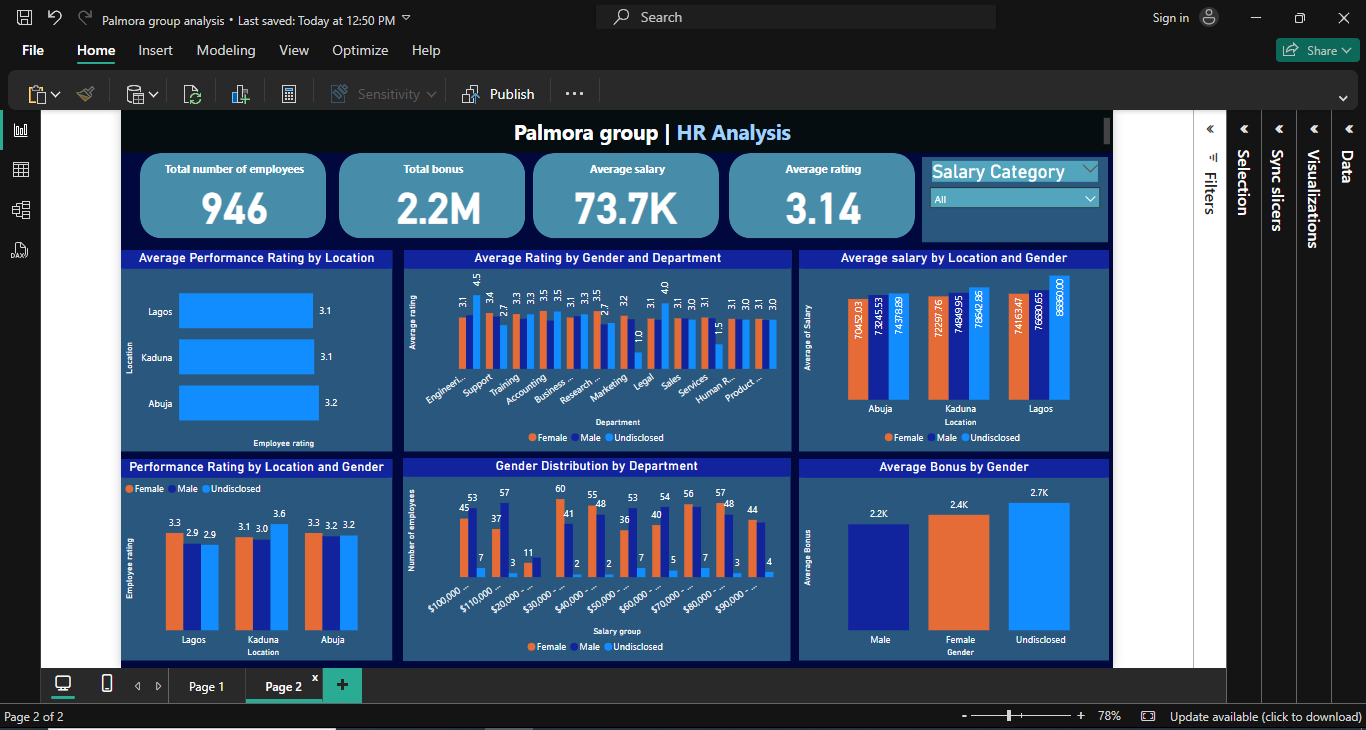

The page's visual inventory and layout, read from the dashboard file:
{"tool":"powerbi","page":{"name":"Page 2","canvas":[1280,720],"ordinal":1},"visuals":[{"type":"shape","box":[0,0,1280,55],"z":0},{"type":"shape","box":[25,55,240,110],"z":0,"group":"g4"},{"type":"shape","box":[280.9,55,240.2,110],"z":0,"group":"g1"},{"type":"shape","box":[532,55,240,110],"z":0,"group":"g2"},{"type":"shape","box":[784,55,240,110],"z":0,"group":"g3"},{"type":"textbox","box":[97.4,5,1182.6,45.4],"z":1000},{"type":"textbox","box":[37,60,220.1,30.2],"z":1000,"group":"g4"},{"type":"textbox","box":[292.6,60,220.1,30.5],"z":1000,"group":"g1"},{"type":"textbox","box":[544,60,220.1,30.2],"z":1000,"group":"g2"},{"type":"textbox","box":[796,60,220.1,30.2],"z":1000,"group":"g3"},{"type":"card","fields":{"Values":["Employees.Total Employees"]},"box":[77,85,140,70],"z":2000,"group":"g4"},{"type":"card","fields":{"Values":["BonusRules.Average Salary"]},"box":[560,85,180,70],"z":2000,"group":"g2"},{"type":"card","fields":{"Values":["Employees.Average Rating"]},"box":[836,85,140,70],"z":2000,"group":"g3"},{"type":"card","fields":{"Values":["Employees.Total Bonus Payout"]},"box":[320,85.2,180,70.5],"z":2000,"group":"g1"},{"type":"group","id":"g1","title":"Group 2","box":[280.9,55,240.2,110],"z":3000},{"type":"group","id":"g2","title":"Group 3","box":[532,55,240,110],"z":4000},{"type":"group","id":"g3","title":"Group 4","box":[784,55,240,110],"z":5000},{"type":"group","id":"g4","title":"Group 5","box":[25,55,240,110],"z":6000},{"type":"clusteredColumnChart","title":"Average Rating by Gender and Department","fields":{"Series":["Employees.Gender"],"Category":["Employees.Department"],"Y":["Employees.Average Rating"]},"box":[365,180,500,260.4],"z":7000},{"type":"clusteredColumnChart","title":"Average salary by Location and Gender","fields":{"Category":["Employees.Location"],"Series":["Employees.Gender"],"Y":["Avg(Employees.Salary)"]},"box":[875,180.7,400,260.2],"z":8000},{"type":"clusteredColumnChart","title":"Performance Rating by Location and Gender","fields":{"Category":["Employees.Location"],"Y":["Employees.Average Rating"],"Series":["Employees.Gender"]},"box":[0,450,350,260],"z":9000},{"type":"clusteredColumnChart","fields":{"Category":["Employees.Gender"],"Y":["BonusRules.Average Bonus"]},"box":[875,450,400,260],"z":10000},{"type":"clusteredColumnChart","title":"Gender Distribution by Department","fields":{"Series":["Employees.Gender"],"Y":["CountNonNull(Employees.Name)"],"Category":["Employees.Salary group"]},"box":[364.3,449.6,500.2,261.7],"z":11000},{"type":"clusteredBarChart","title":"Average Performance Rating by Location","fields":{"Category":["Employees.Location"],"Y":["Employees.Average Rating"]},"box":[0,180.7,349.9,260.2],"z":12000},{"type":"slicer","fields":{"Values":["Employees.Salary Category"]},"box":[1033.7,60.7,240,110],"z":12001}]}

Visuals, with their boxes on the page's 1280x720 design canvas (x1, y1, x2, y2). These are canvas units, not pixel positions in the 1366x730 screenshot, which may show the page scaled, cropped or inside an application window:
shape: crop(0, 0, 1280, 55)
shape: crop(25, 55, 265, 165)
shape: crop(281, 55, 521, 165)
shape: crop(532, 55, 772, 165)
shape: crop(784, 55, 1024, 165)
textbox: crop(97, 5, 1280, 50)
textbox: crop(37, 60, 257, 90)
textbox: crop(293, 60, 513, 90)
textbox: crop(544, 60, 764, 90)
textbox: crop(796, 60, 1016, 90)
card - Employees.Total Employees: crop(77, 85, 217, 155)
card - BonusRules.Average Salary: crop(560, 85, 740, 155)
card - Employees.Average Rating: crop(836, 85, 976, 155)
card - Employees.Total Bonus Payout: crop(320, 85, 500, 156)
"Group 2" group: crop(281, 55, 521, 165)
"Group 3" group: crop(532, 55, 772, 165)
"Group 4" group: crop(784, 55, 1024, 165)
"Group 5" group: crop(25, 55, 265, 165)
"Average Rating by Gender and Department" clusteredColumnChart: crop(365, 180, 865, 440)
"Average salary by Location and Gender" clusteredColumnChart: crop(875, 181, 1275, 441)
"Performance Rating by Location and Gender" clusteredColumnChart: crop(0, 450, 350, 710)
clusteredColumnChart - Employees.Gender x BonusRules.Average Bonus: crop(875, 450, 1275, 710)
"Gender Distribution by Department" clusteredColumnChart: crop(364, 450, 864, 711)
"Average Performance Rating by Location" clusteredBarChart: crop(0, 181, 350, 441)
slicer - Employees.Salary Category: crop(1034, 61, 1274, 171)
